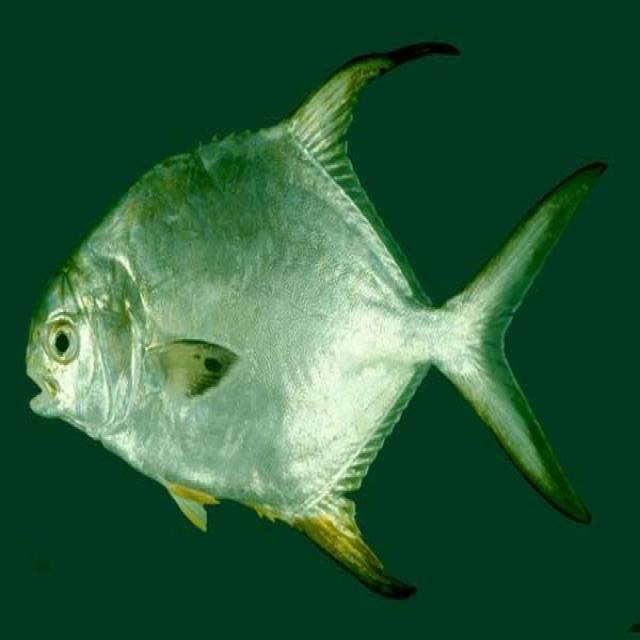ikan: (23, 35, 608, 602)
